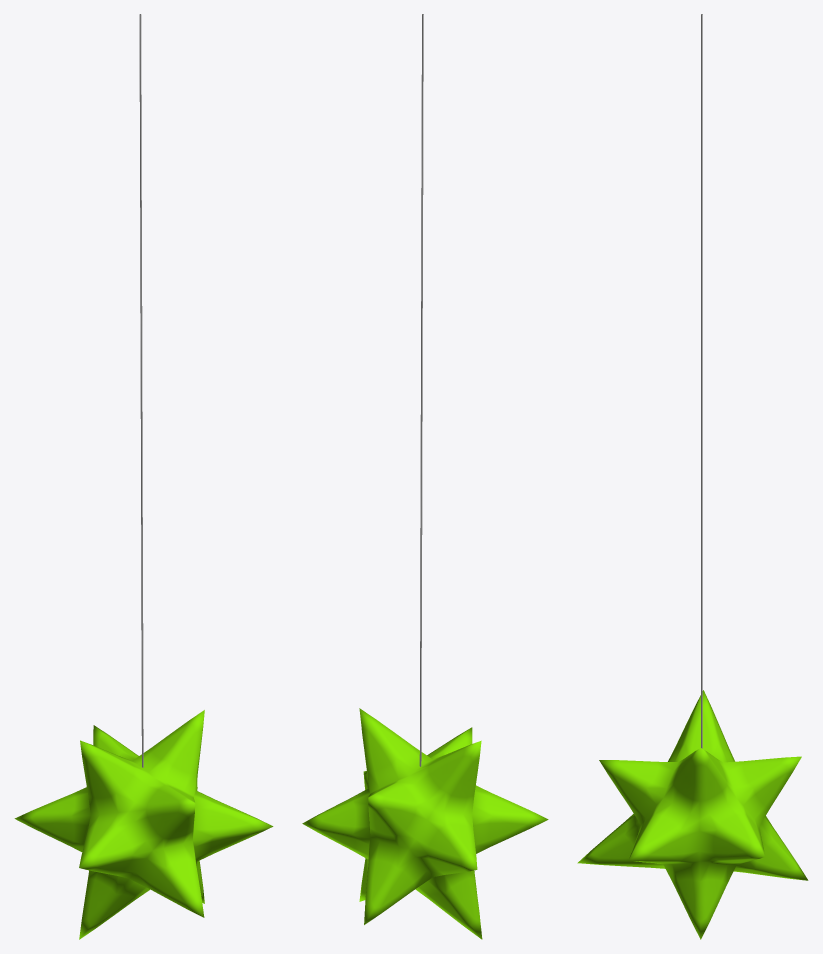
File: Hanging_Star_Green.fbx
3 views of the same model, side by side, from view 1: azimuth 30°, elevation 25°; view 2: azimuth 150°, elevation 25°; view 3: azimuth 270°, elevation 25° (orthographic).
Visible parts, largest first — view 1: HangingStar_A5, Star_Cable; view 2: HangingStar_A5, Star_Cable; view 3: HangingStar_A5, Star_Cable.
Part boxes in pixels (box(x1,y1,x2,y2)): HangingStar_A5: box(14, 710, 273, 939); Star_Cable: box(139, 14, 143, 767); HangingStar_A5: box(302, 708, 548, 939); Star_Cable: box(419, 14, 423, 766); HangingStar_A5: box(577, 690, 808, 939); Star_Cable: box(701, 14, 702, 748).
Bounding box in the file's own units: 104 × 476 × 111.
